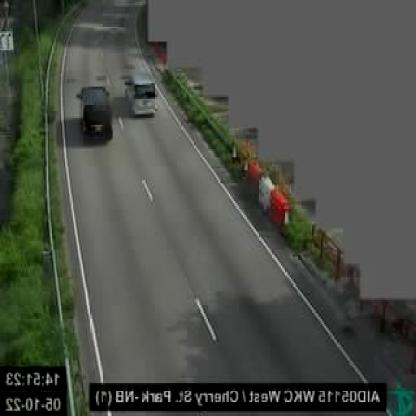Car: (77, 87, 114, 144), (125, 71, 156, 118)
